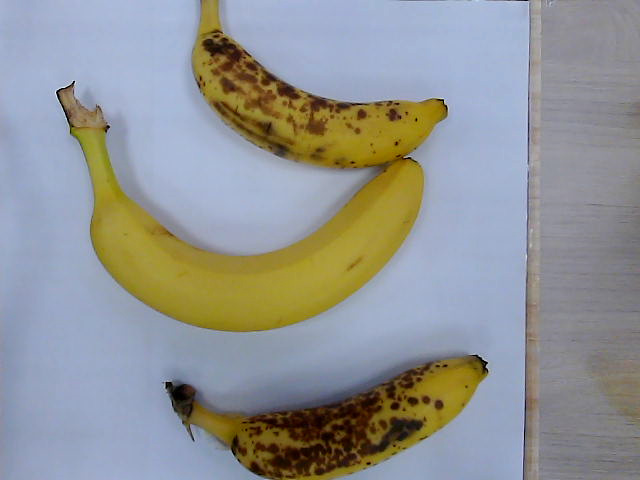fresh_banana: (84, 160, 425, 333)
rotten_banana: (190, 1, 448, 171), (165, 356, 490, 480)
